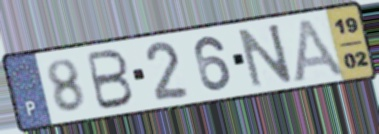2: (143, 39, 193, 104)
6: (192, 35, 234, 94)
8: (44, 57, 88, 114)
A: (290, 15, 348, 85)
B: (85, 47, 137, 113)
N: (235, 20, 296, 90)
